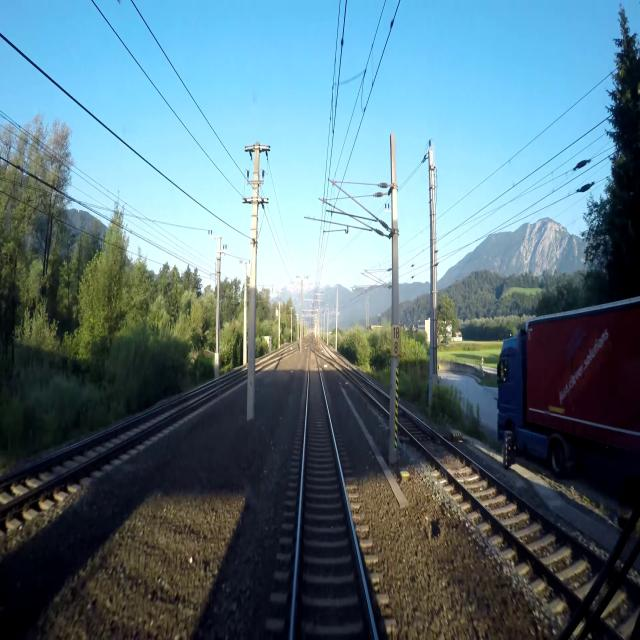rail-track: (397, 408, 603, 596), (294, 352, 374, 639), (0, 393, 200, 502), (361, 381, 390, 409)
